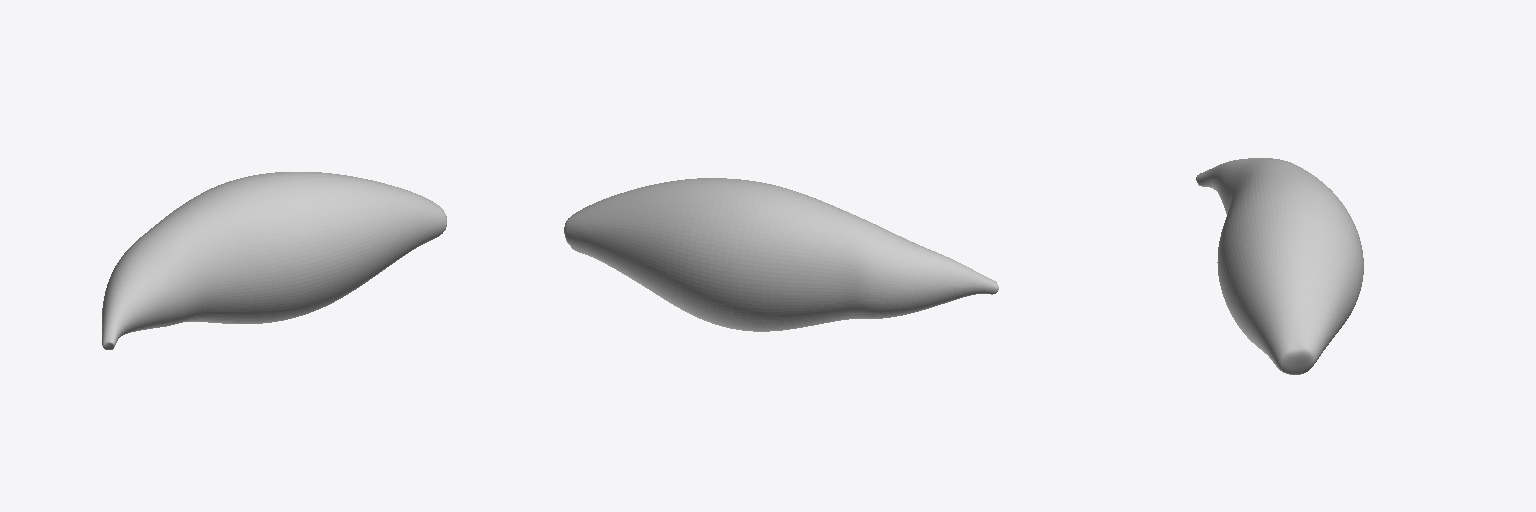
The model's file is sweetpotato.obj.
The picture shows the model from 3 angles: view 1: azimuth 30°, elevation 25°; view 2: azimuth 150°, elevation 25°; view 3: azimuth 270°, elevation 25°; orthographic projection.
Parts seen in each view (by area): view 1: sweetpotato; view 2: sweetpotato; view 3: sweetpotato.
Boxes of the visible parts, x1,y1,x2,y2 form: sweetpotato: [102, 172, 446, 349]; sweetpotato: [564, 178, 998, 331]; sweetpotato: [1196, 158, 1363, 374].
Bounding box in the file's own units: 2.97 × 1.01 × 1.12.